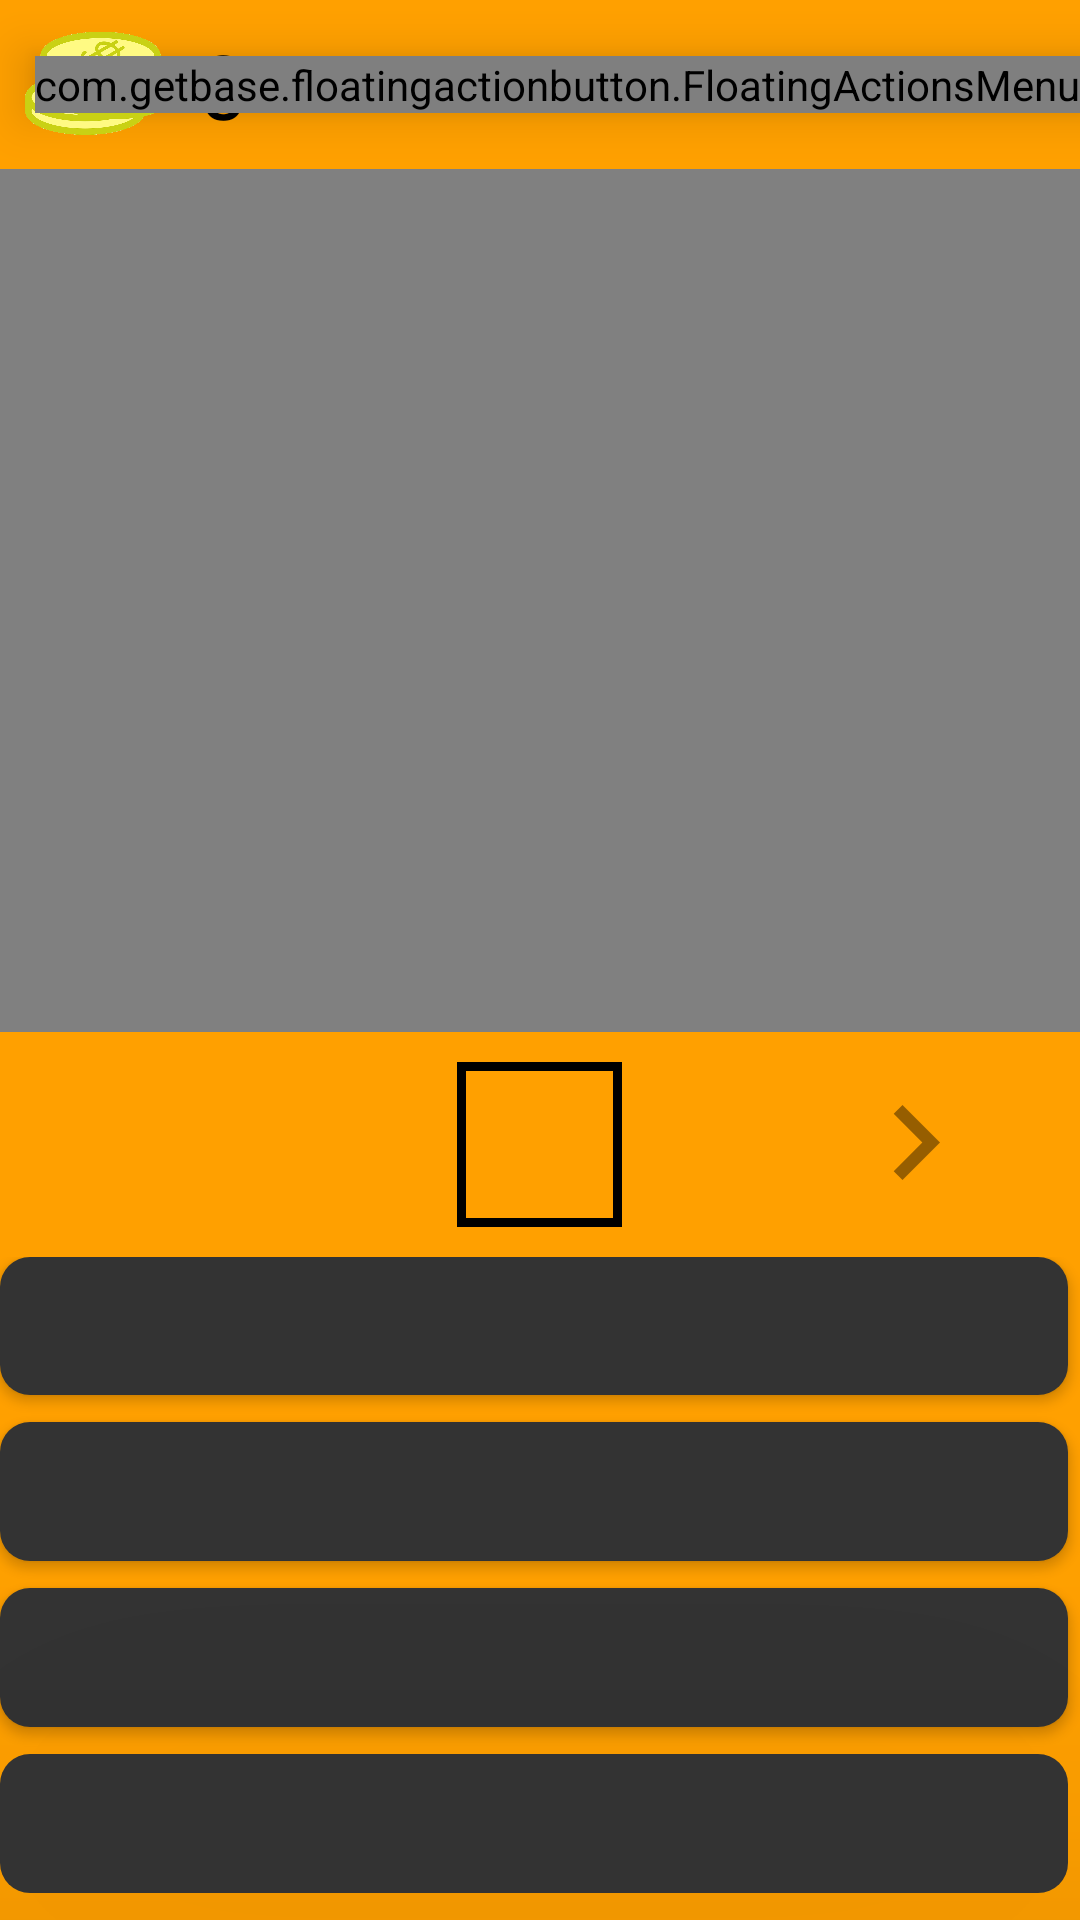

Where to tap for icons on this 1080 x 1920 app screen, as point (x, y):
arrow right: point (917, 1142)
